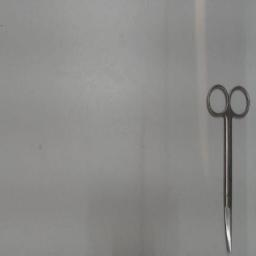Curved Mayo Scissors: (204, 80, 254, 254)
